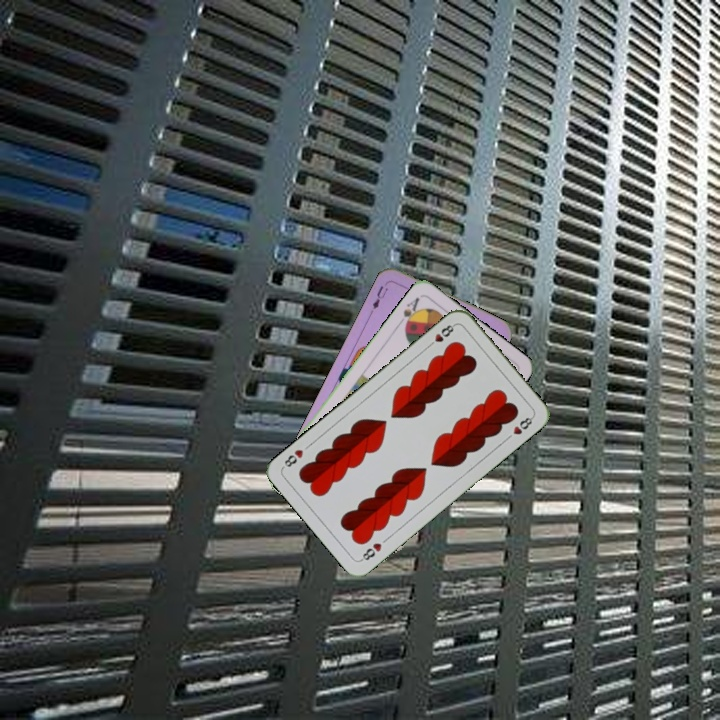EU: (366, 279, 391, 316)
H8: (424, 320, 458, 350), (357, 539, 384, 564)
SA: (399, 293, 423, 332)
